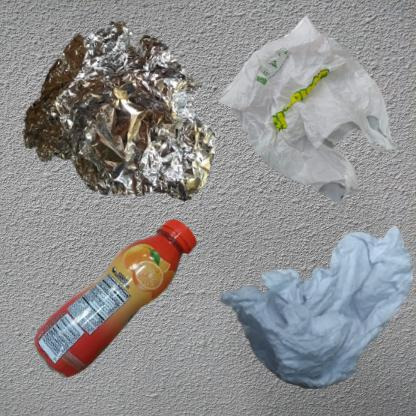aluminio: (10, 10, 226, 222)
bolsa: (213, 10, 400, 209)
botella: (10, 213, 287, 416)
papel: (213, 213, 416, 398)
